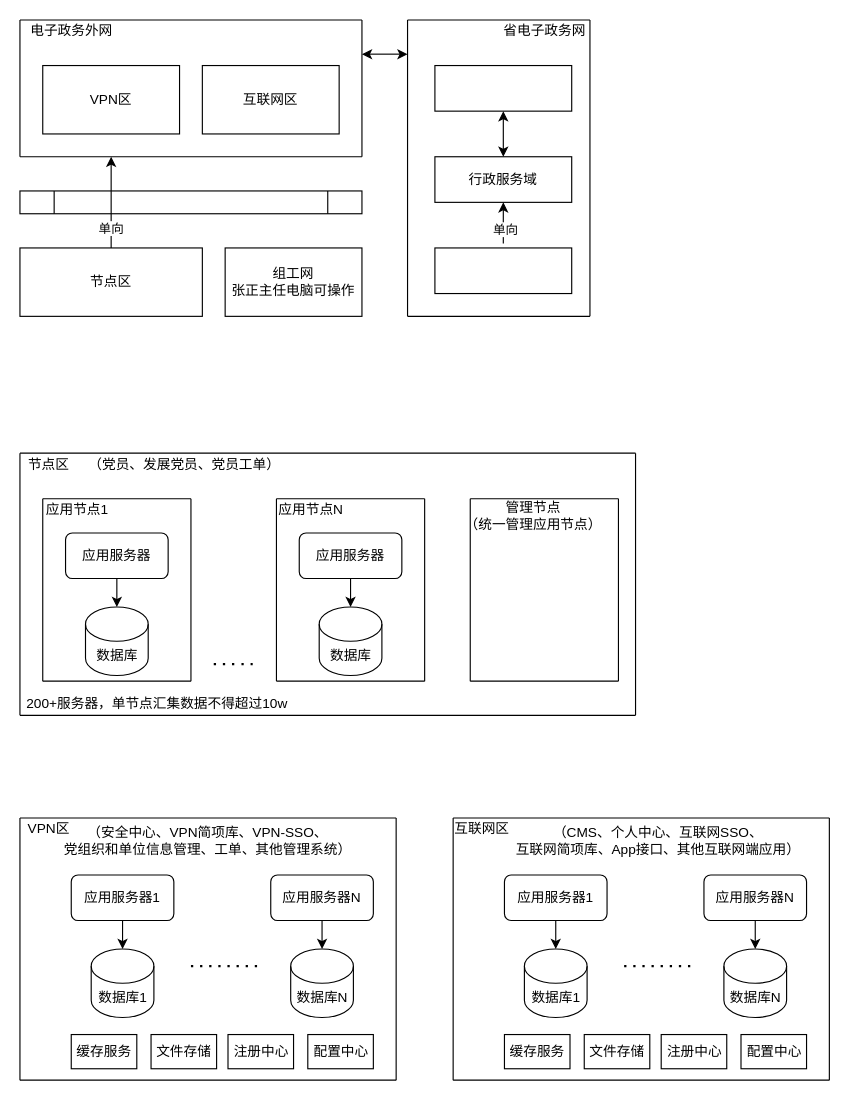
Some shapes in this 850 by 1101 pixel diagram are drawn without their labels. The centre of each missing label's shape, as x and y in pixels:
公共服务域: (x=503, y=87)
内网: (x=503, y=270)
防火墙: (x=190, y=202)
